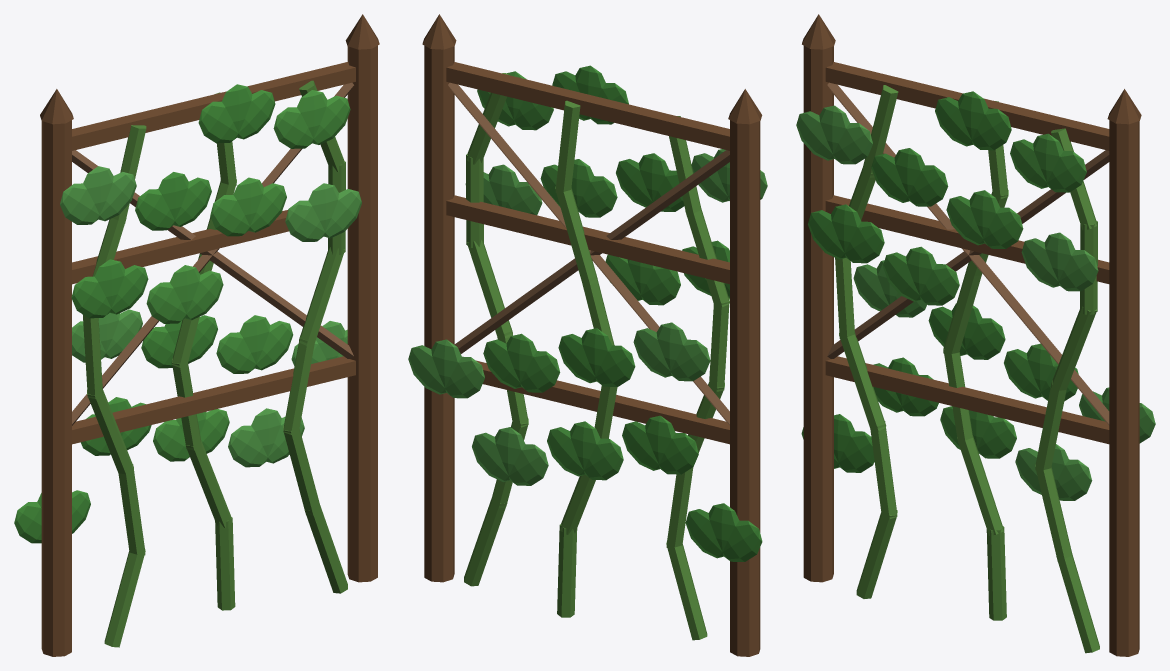
Rendered from Planta_Grape.fbx.
3 renders of one model, left to right at view 1: azimuth 30°, elevation 25°; view 2: azimuth 150°, elevation 25°; view 3: azimuth 330°, elevation 25°, orthographic.
Parts seen in each view (by area): view 1: Corpo_Grape; view 2: Corpo_Grape; view 3: Corpo_Grape.
Part boxes in pixels (box(x1,y1,x2,y2)): Corpo_Grape: box(14, 14, 379, 656); Corpo_Grape: box(408, 14, 767, 656); Corpo_Grape: box(796, 14, 1155, 656).
Size of the model in its own units: 2.08 by 3.19 by 0.3076.
1 material, 1 textured.
